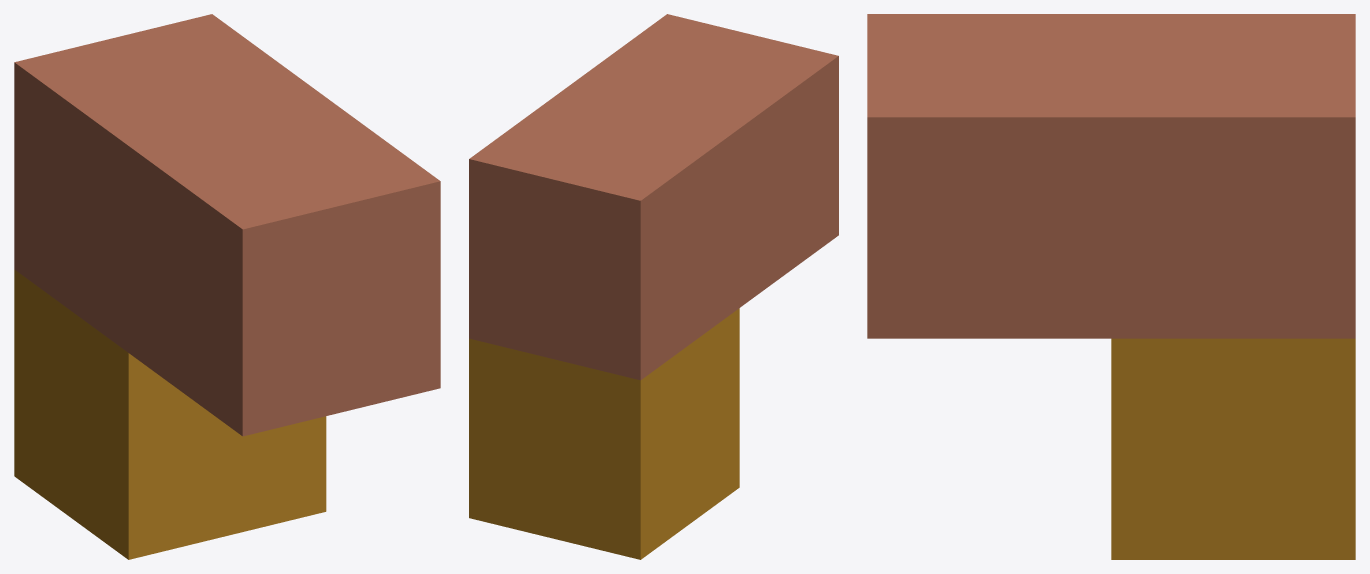
The model's file is fencechunk1.obj.
3 views of the same model, side by side, from view 1: azimuth 30°, elevation 25°; view 2: azimuth 150°, elevation 25°; view 3: azimuth 270°, elevation 25° (orthographic). The views are drawn at different scales.
Size of the model in its own units: 0.1 by 0.2 by 0.2.
Materials: 1 (1 with a texture image).
